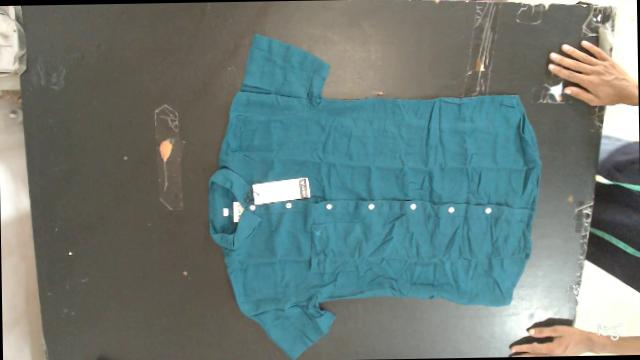new-garment: (209, 34, 540, 357)
